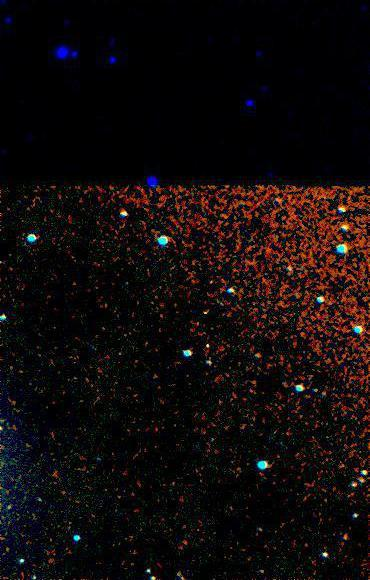star: (194, 332, 224, 362)
